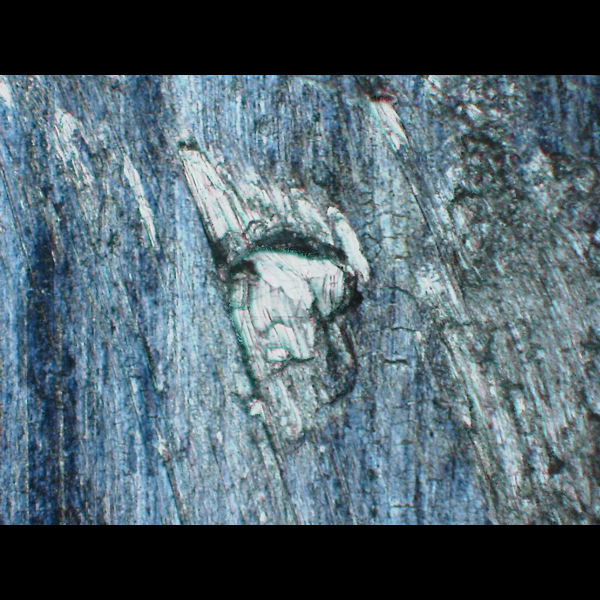d: (164, 131, 389, 444)
